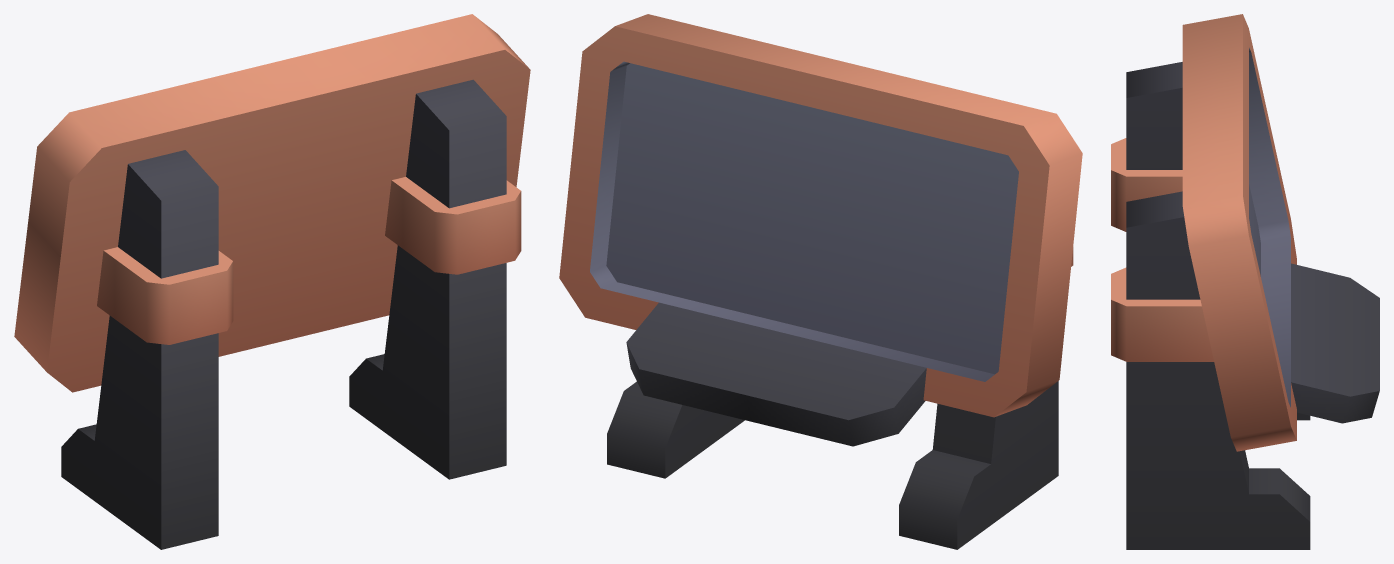
Rendered from screen-panel-wide.obj.
3 renders of one model, left to right at view 1: azimuth 30°, elevation 25°; view 2: azimuth 150°, elevation 25°; view 3: azimuth 270°, elevation 25°, orthographic. The views are drawn at different scales.
Parts seen in each view (by area): view 1: screen-panel-wide; view 2: screen-panel-wide; view 3: screen-panel-wide.
Boxes of the visible parts, bbox=[...] form: screen-panel-wide: bbox=[14, 14, 530, 549]; screen-panel-wide: bbox=[559, 14, 1082, 549]; screen-panel-wide: bbox=[1111, 14, 1379, 549].
Bounding box in the file's own units: 1.2 × 0.9913 × 0.6572.
